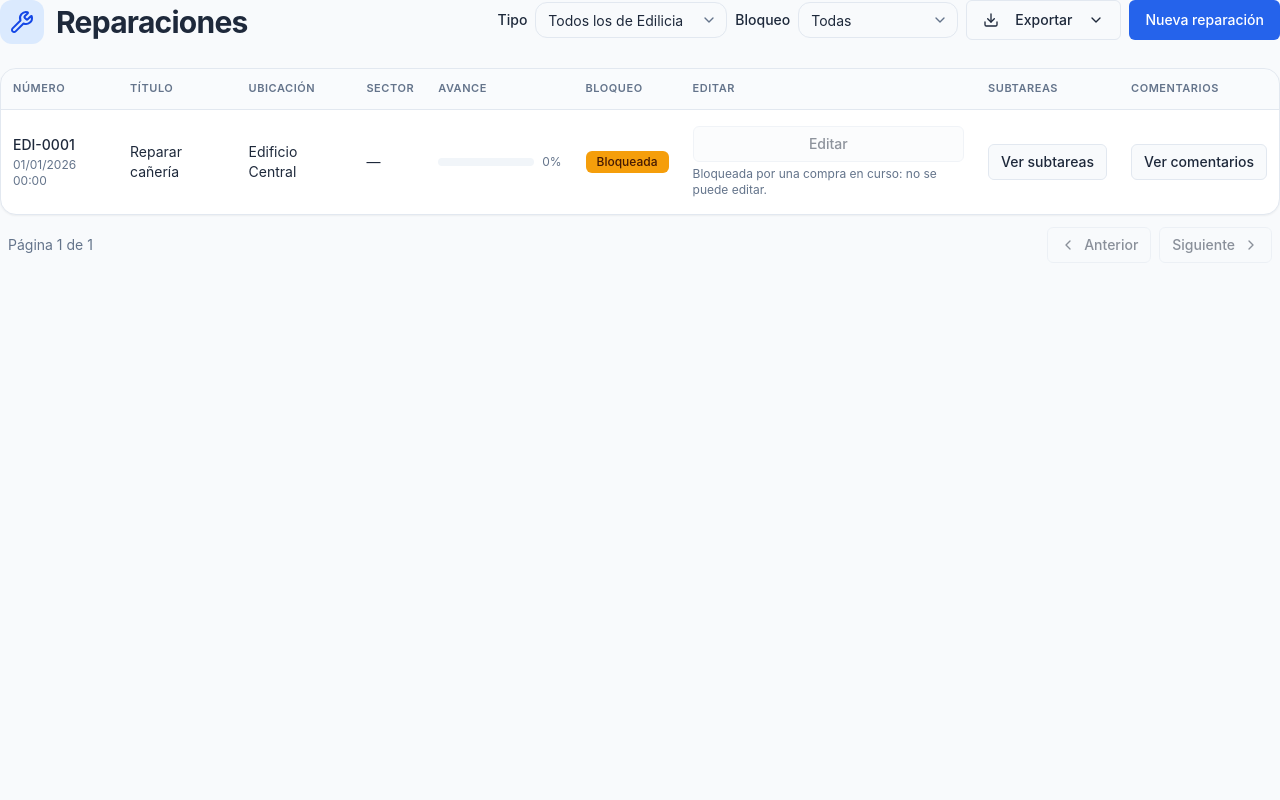
Test: ReparacionesList — fila cerrada, cancelada o bloqueada: subtareas de solo lectura, comentarios internos abiertos › en una reparación bloqueada por una compra, también para un administrador, el diálogo de subtareas no deja agregar y el de comentarios sí deja comentar
This screenshot has width=1280, height=800.
Check: the text "EDI-0001" is shown, box [13,136,75,152]
Click the button "Ver subtareas" at (1047,162), box [988,144,1107,180]
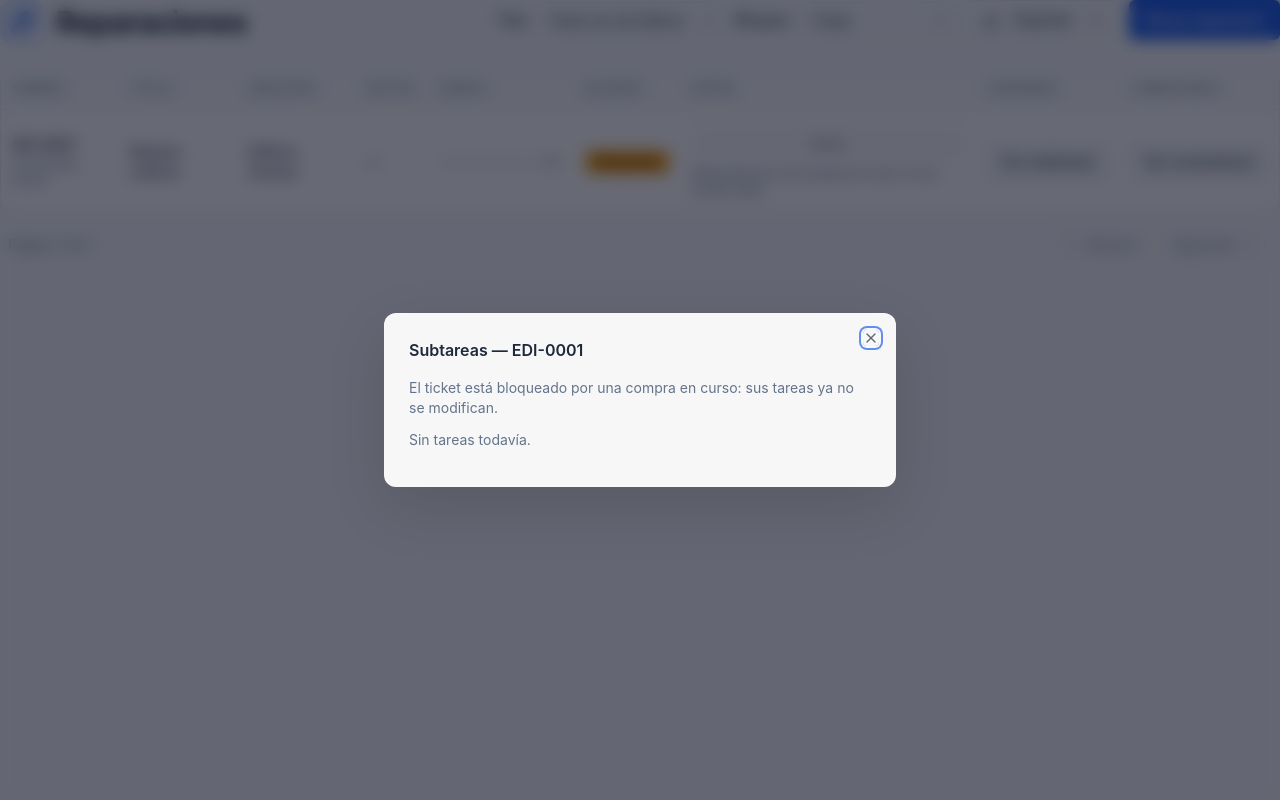
Check: the text "bloqueado por una compra" is shown, box [409,379,854,416]
Press Escape
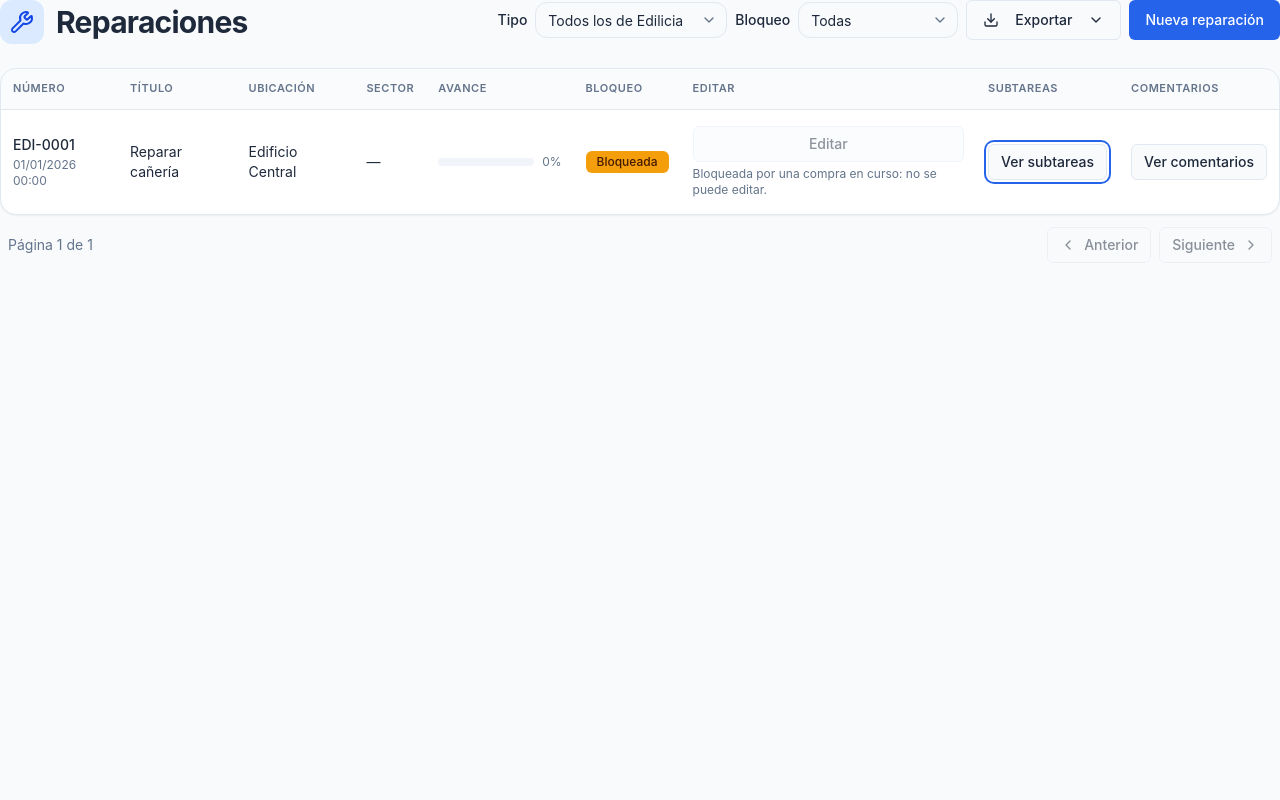
Click the button "Ver comentarios" at (1199,162), box [1131,144,1267,180]
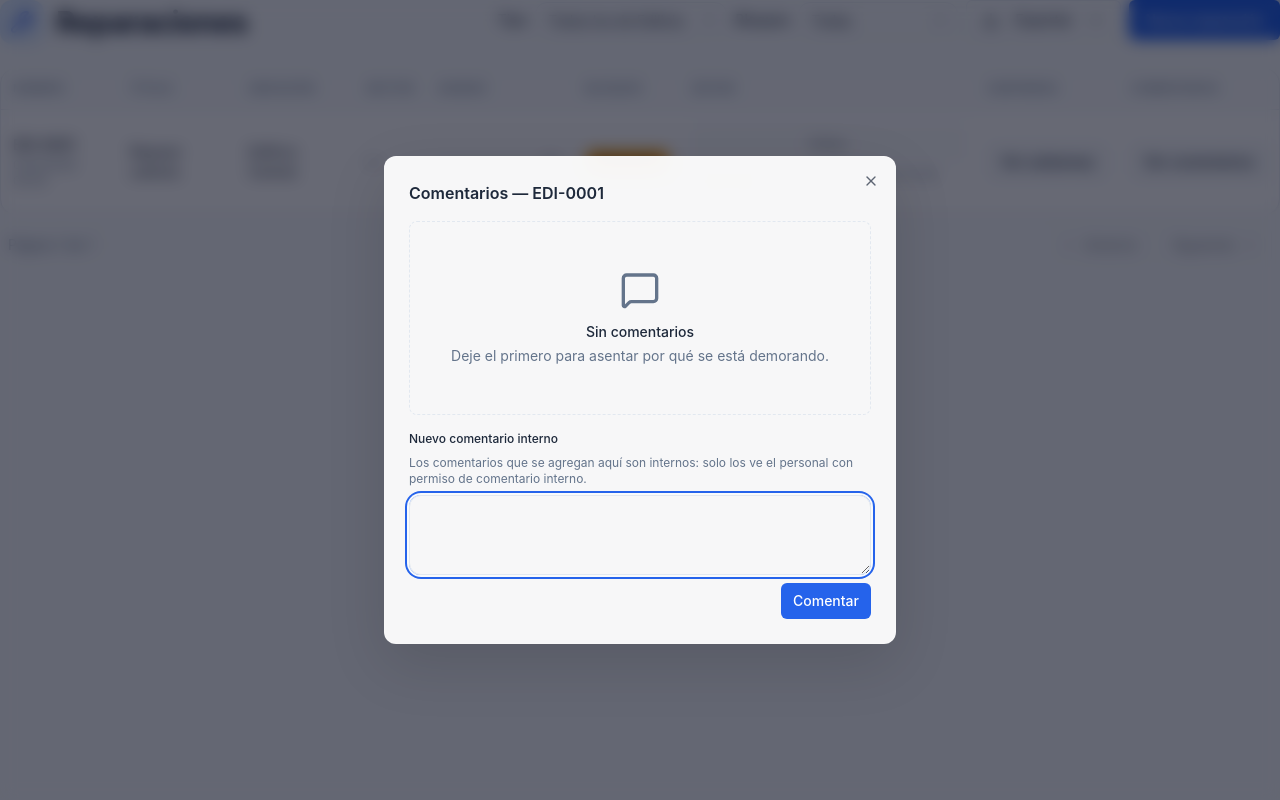
Check: the text "bloqueado por una compra" is not shown, box [409,455,871,487]
Check: the text box labelled "Nuevo comentario interno" is shown, box [409,495,871,575]
